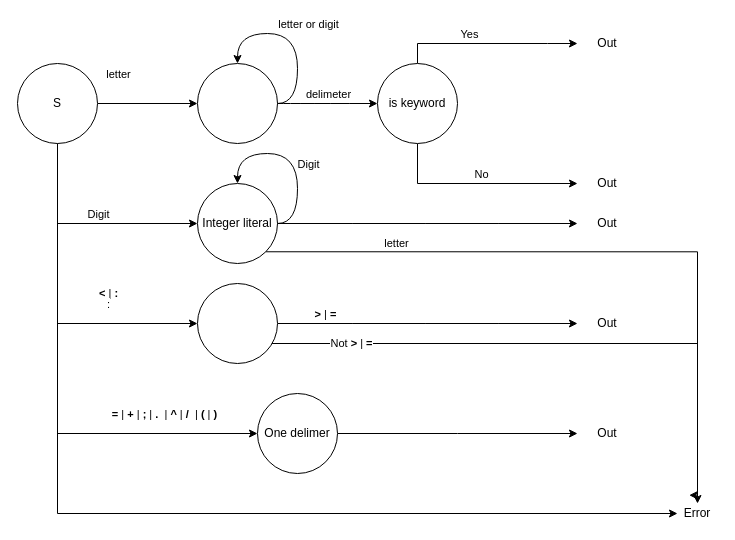
Image size: 735x540. Some labels were removed from this diagram. Here are the shapes that lost their labels. From the top down, the centre of each, then its label:
At pixel 237 103: "ID".
At pixel 237 323: "Two delimer".
